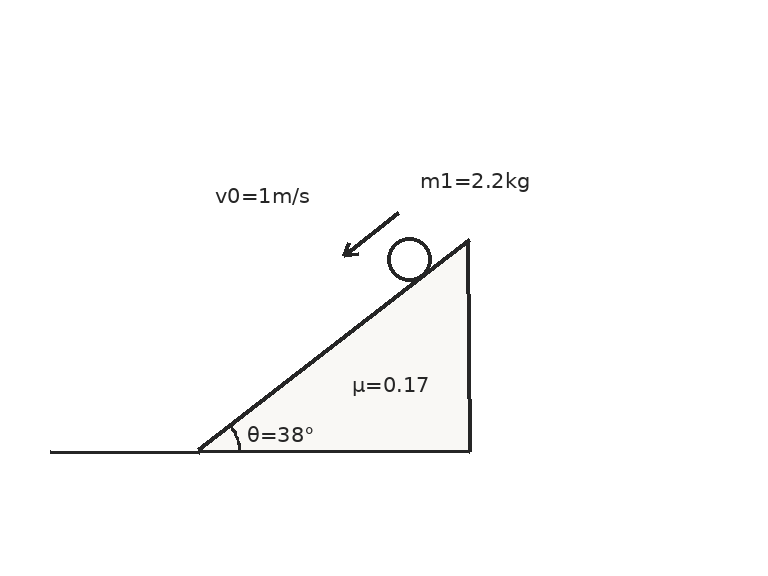ball: (385, 235, 433, 283)
ramp: (197, 238, 470, 453)
